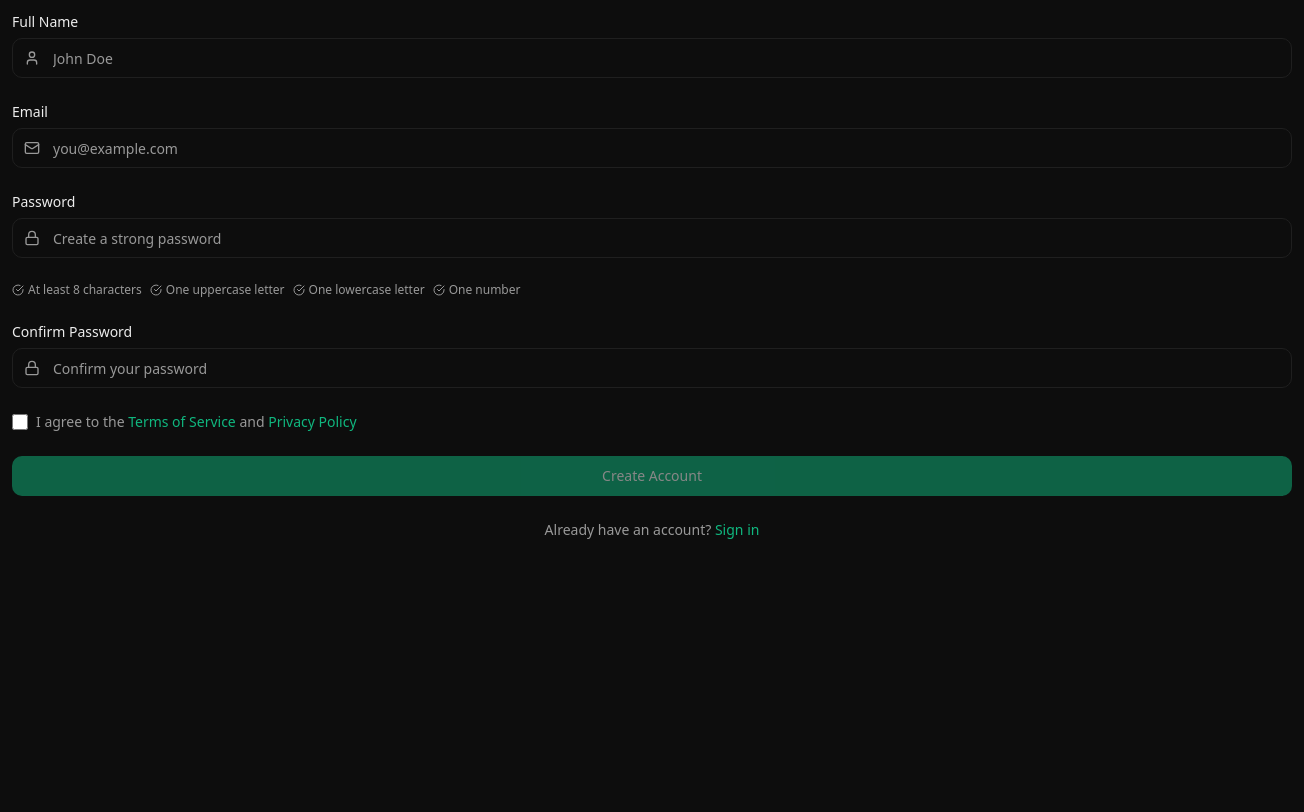
Scenario: SignupForm › error handling › displays error from failed submission
This screenshot has width=1304, height=812.
Type "John" into the field labelled "Full Name" at [652, 58], box [12,38,1292,78]
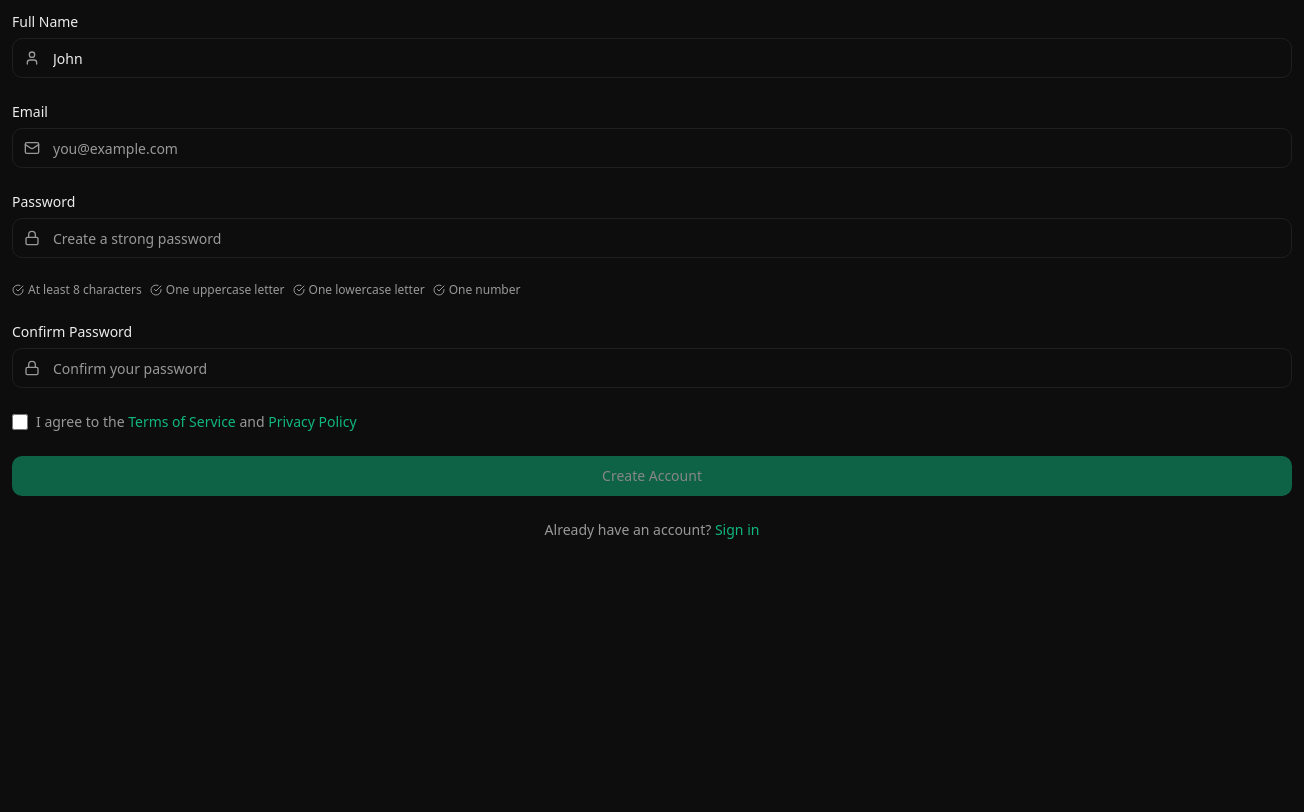
Type "john@example.com" into the field labelled "Email" at [652, 148], box [12,128,1292,168]
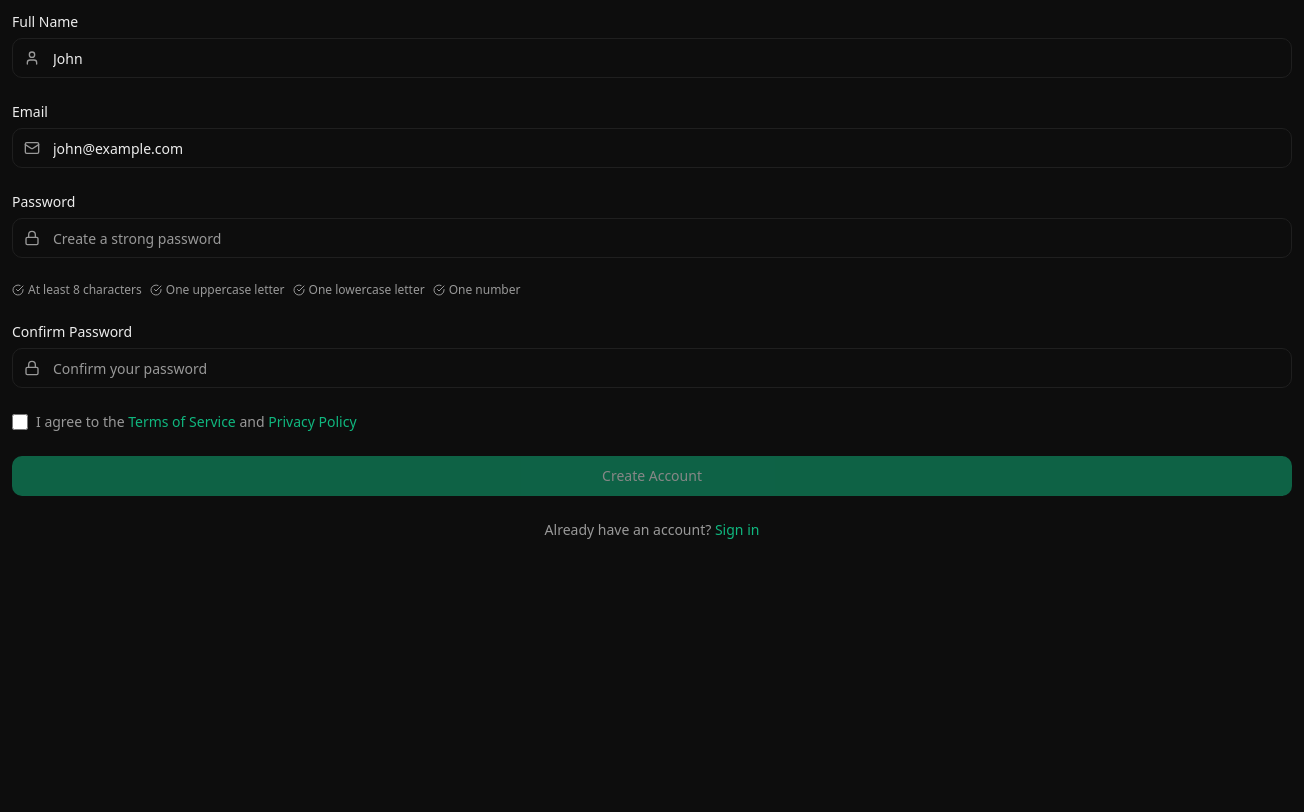
Type "Password1A" into the password field labelled "Password" at [652, 238], box [12,218,1292,258]
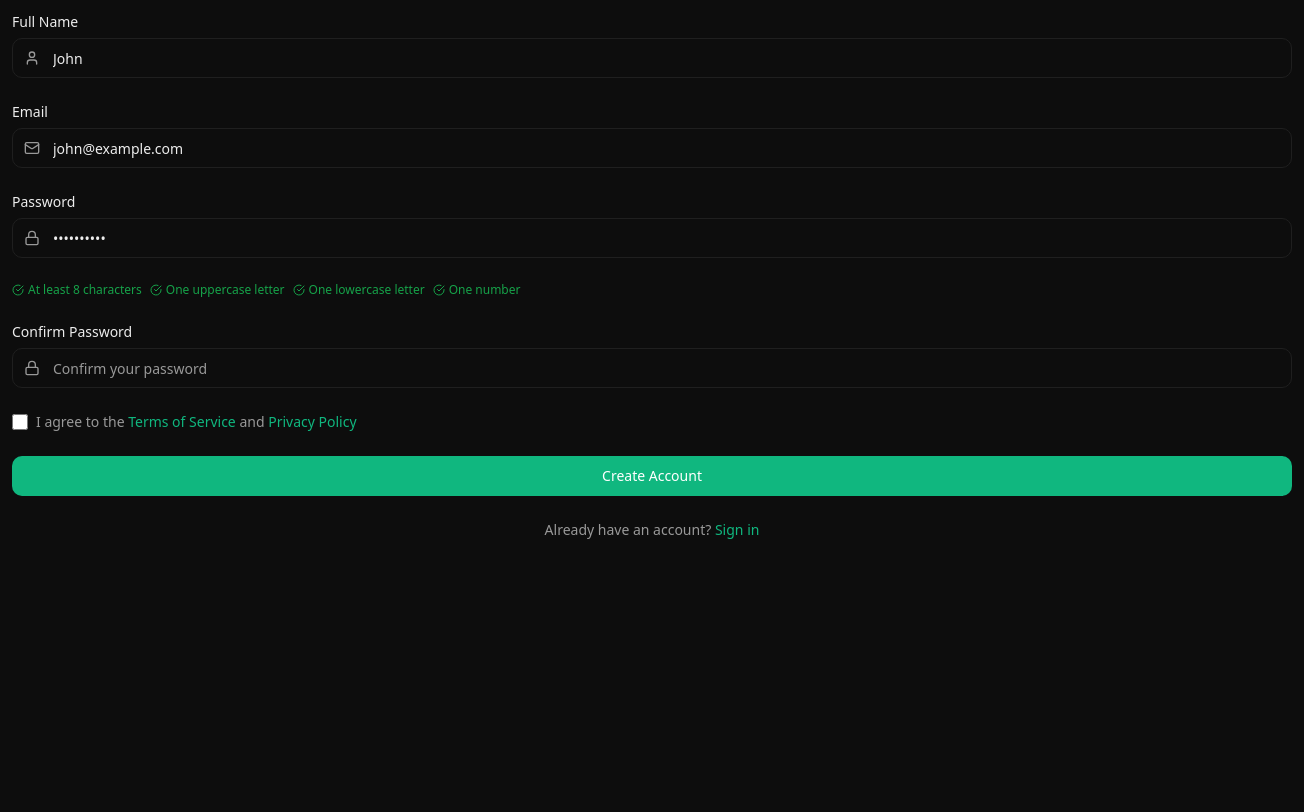
Type "Password1A" into the password field labelled "Confirm Password" at [652, 368], box [12,348,1292,388]
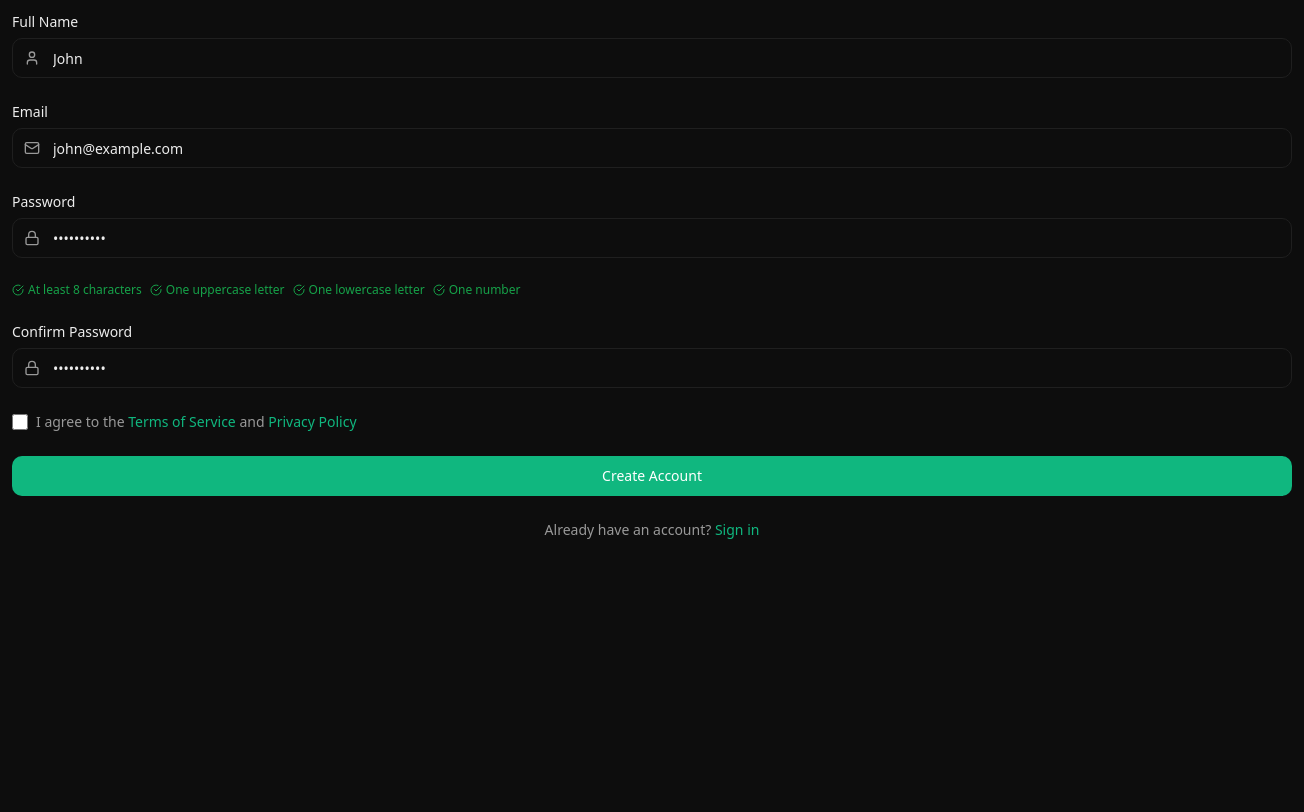
Click the checkbox at [20, 422], box [12,414,28,430]
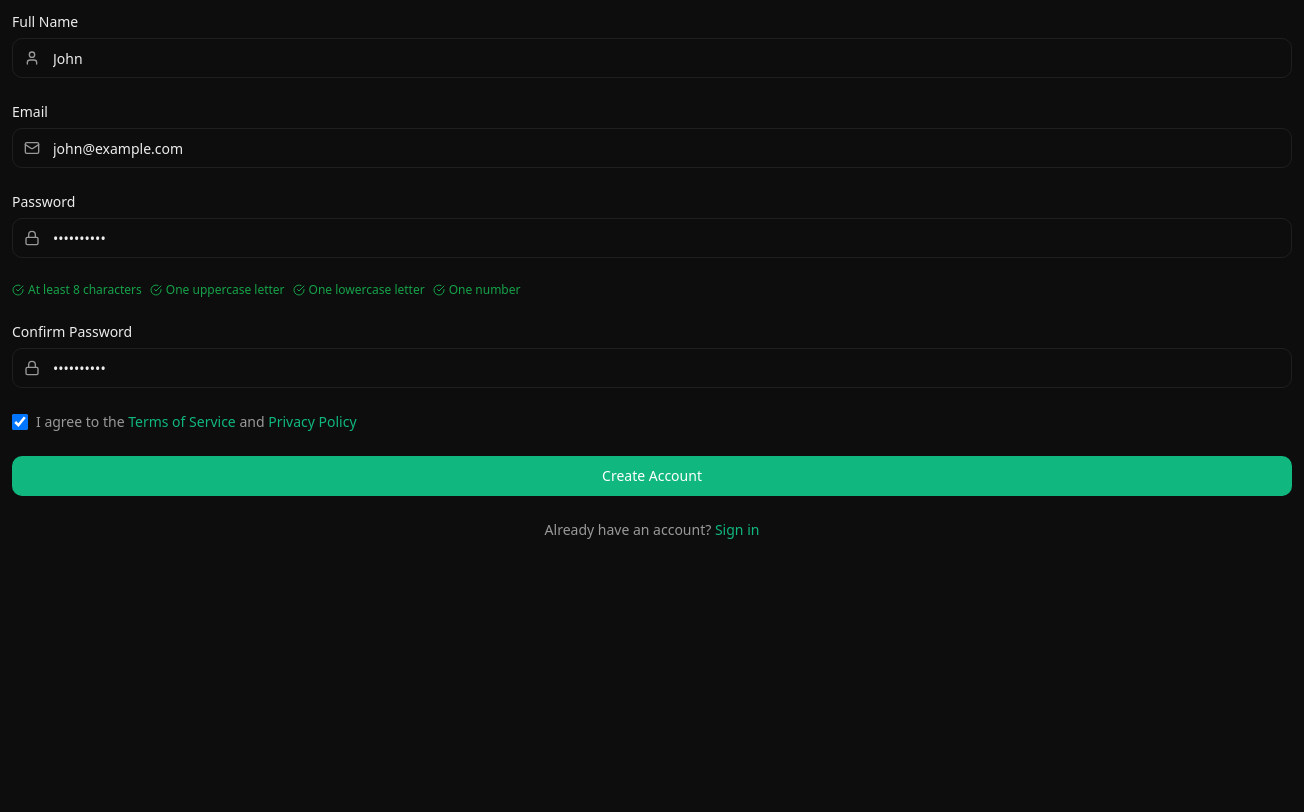
Click the button "Create Account" at [652, 476], box [12,456,1292,496]
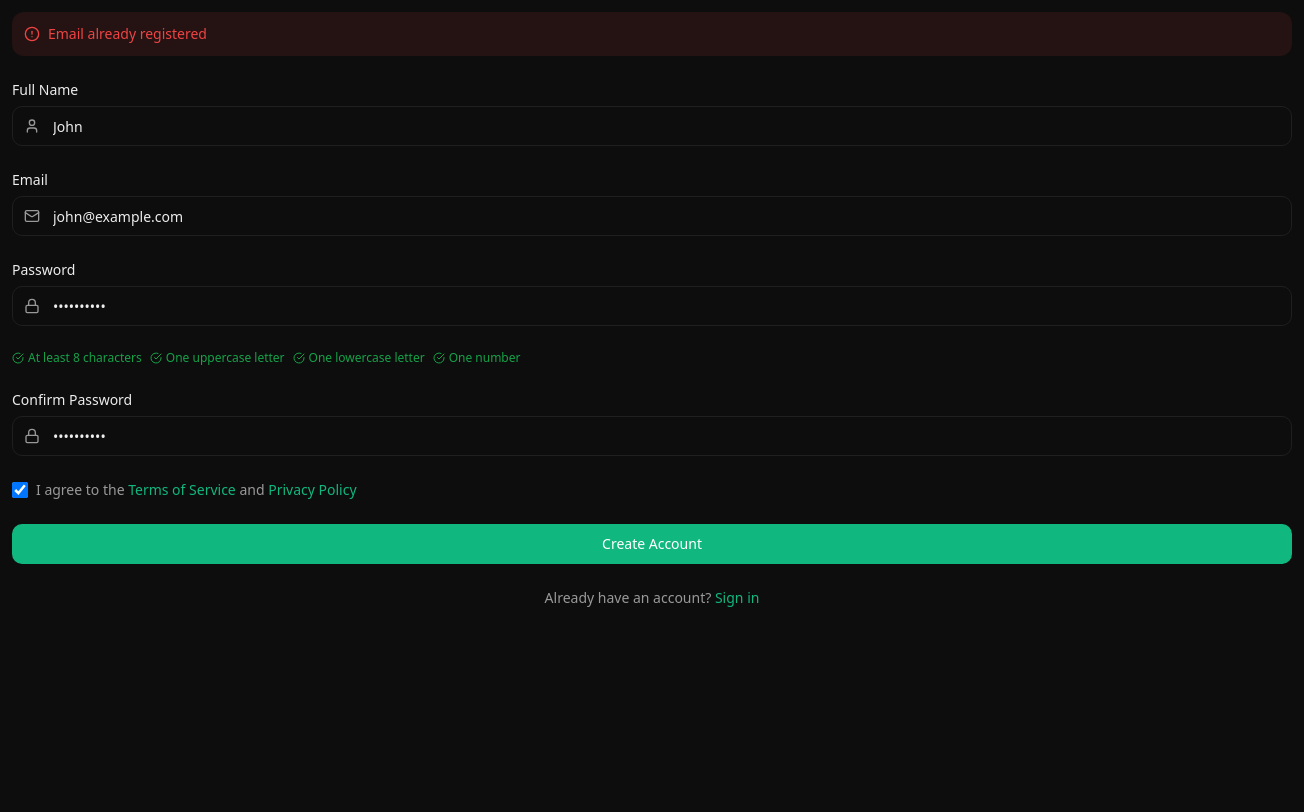
expect the text "Email already registered" is shown: met, box [12,12,1292,56]
